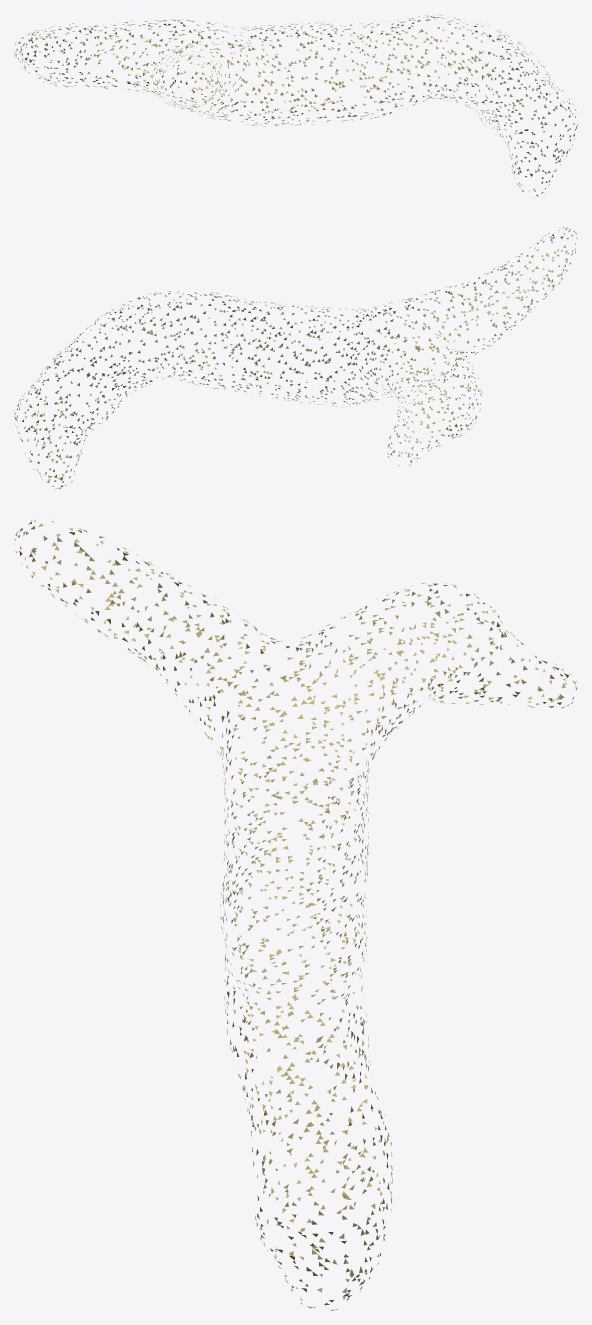
The model's file is morph_008.glb.
The picture shows the model from 3 angles, top to bottom: view 1: azimuth 30°, elevation 25°; view 2: azimuth 150°, elevation 25°; view 3: azimuth 270°, elevation 25°; orthographic projection. The views are drawn at different scales.
Bounding box in the file's own units: 111 × 63.41 × 69.12.
